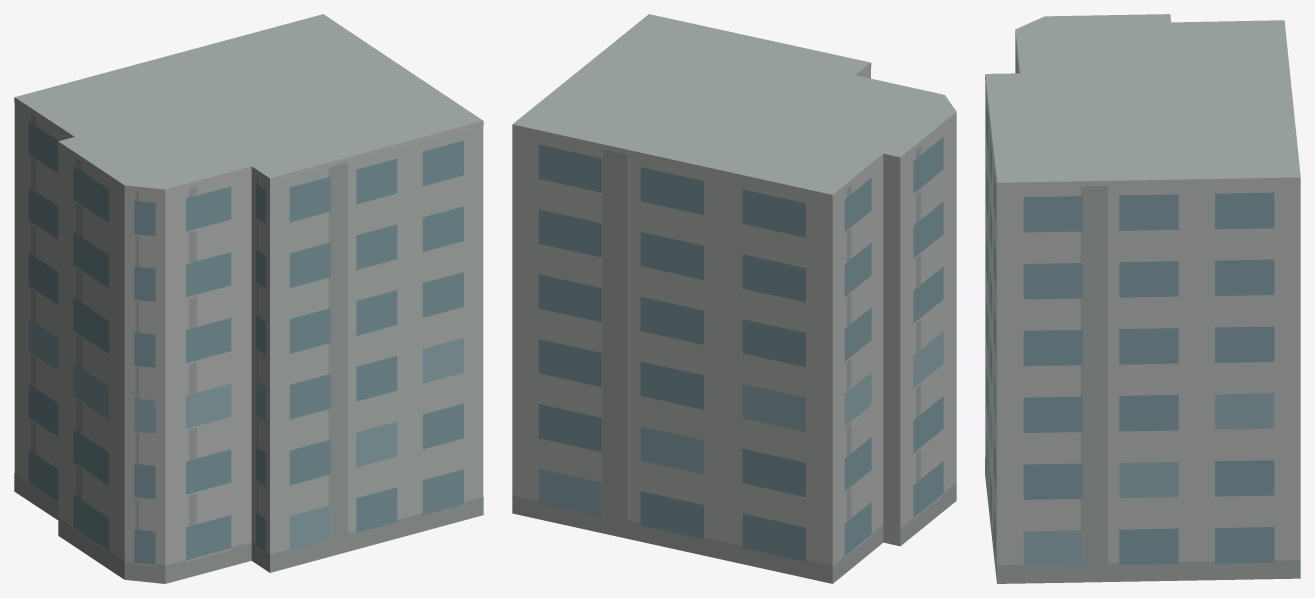
Rendered from survey-upis-32910121.glb.
The picture shows the model from 3 angles, left to right: view 1: azimuth 30°, elevation 25°; view 2: azimuth 150°, elevation 25°; view 3: azimuth 270°, elevation 25°; orthographic projection. The views are drawn at different scales.
Visible parts, largest first — view 1: survey-upis-32910121.tmp; view 2: survey-upis-32910121.tmp; view 3: survey-upis-32910121.tmp.
Boxes of the visible parts, x1,y1,x2,y2 form: survey-upis-32910121.tmp: (14, 14, 483, 583); survey-upis-32910121.tmp: (512, 14, 956, 583); survey-upis-32910121.tmp: (985, 14, 1300, 583).
Size of the model in its own units: 16.79 by 18.6 by 13.27.
